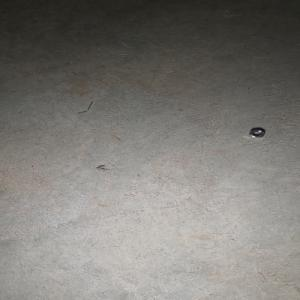Nut: (247, 127, 265, 137)
